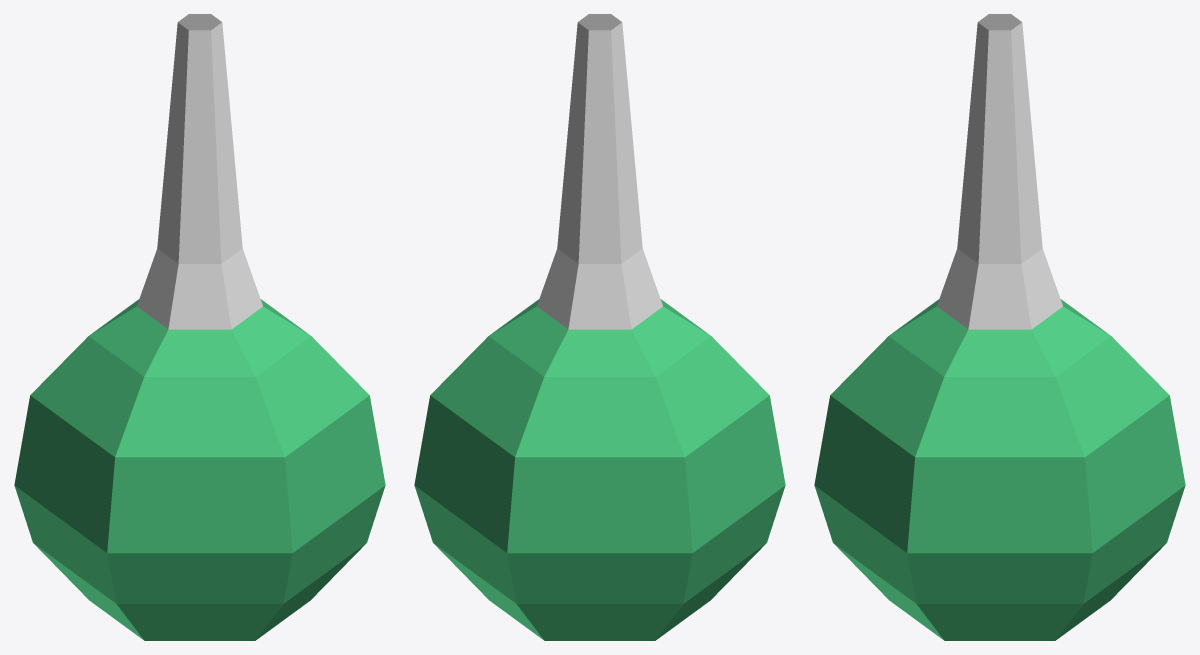
The model's file is Clyster Green.fbx.
3 views of the same model, side by side, from view 1: azimuth 30°, elevation 25°; view 2: azimuth 150°, elevation 25°; view 3: azimuth 270°, elevation 25° (orthographic).
Visible parts, largest first — view 1: Clyster Green; view 2: Clyster Green; view 3: Clyster Green.
Part boxes in pixels (left/top/right/bottom): Clyster Green: left=14, top=14, right=385, bottom=640; Clyster Green: left=414, top=14, right=785, bottom=640; Clyster Green: left=814, top=14, right=1185, bottom=640.
Size of the model in its own units: 20.89 by 41.46 by 24.12.
